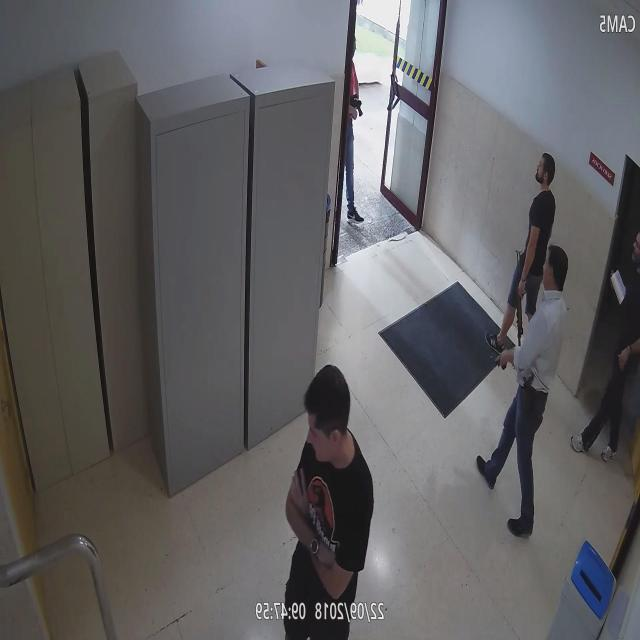gun: (474, 243, 572, 542), (278, 355, 376, 640), (484, 148, 556, 354), (510, 245, 528, 346), (486, 350, 508, 378)
